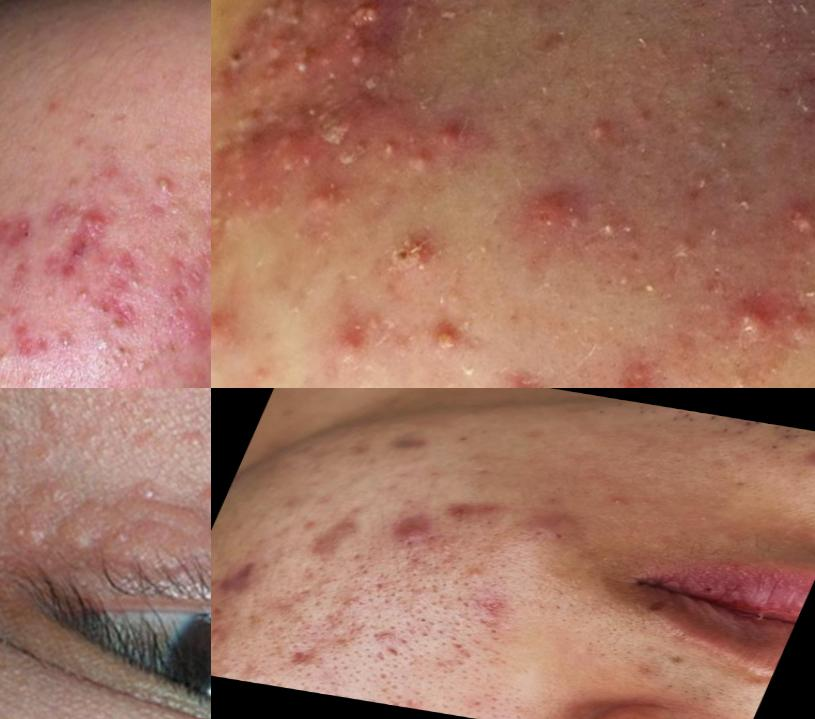acne_scars: (45, 226, 162, 301), (212, 550, 292, 612), (373, 420, 449, 467), (304, 511, 363, 565), (1, 316, 52, 371), (458, 587, 528, 624), (169, 304, 212, 354), (278, 633, 329, 675), (606, 486, 640, 514)
milium: (174, 461, 212, 520)
papular: (479, 162, 609, 306), (307, 290, 398, 385), (212, 258, 266, 389), (427, 492, 510, 538), (518, 498, 593, 542), (379, 506, 448, 551), (427, 99, 476, 160), (783, 280, 815, 352), (452, 559, 489, 587)
purulent: (707, 268, 793, 363), (405, 293, 487, 383), (597, 340, 673, 389), (137, 157, 184, 209), (779, 198, 815, 247), (557, 372, 622, 389)
sebo-crystan-conglo: (212, 59, 426, 231), (261, 1, 428, 119), (373, 205, 461, 300), (505, 167, 608, 238), (475, 338, 569, 389), (66, 197, 118, 248), (1, 204, 43, 266)
syringoma: (1, 459, 82, 549), (54, 495, 153, 567), (170, 528, 212, 589)
whitehead: (567, 95, 631, 170), (98, 334, 160, 388), (622, 255, 677, 310), (62, 280, 113, 323), (46, 316, 93, 362), (594, 204, 632, 250), (724, 183, 762, 223), (157, 197, 189, 226), (1, 264, 9, 296)
